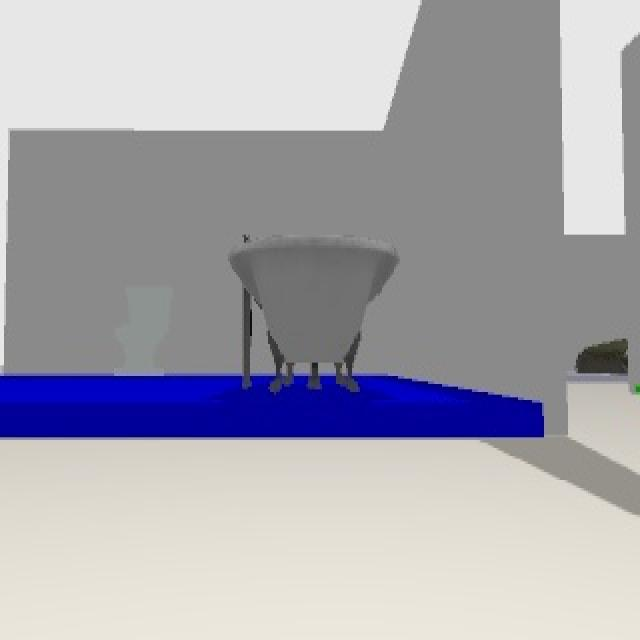bathtub: (226, 235, 402, 392)
